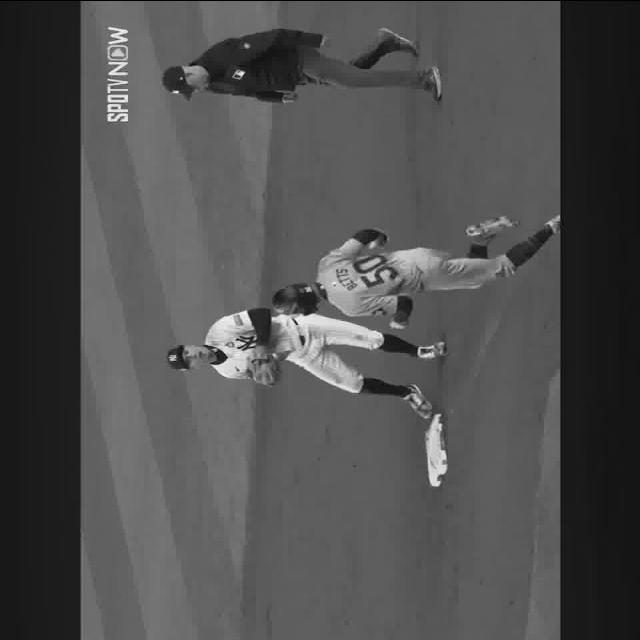base: (425, 412, 448, 486)
baseball_glove: (248, 345, 278, 385)
shoe: (378, 25, 418, 56), (467, 215, 518, 236), (403, 384, 433, 418), (424, 66, 442, 100), (417, 341, 447, 358)
